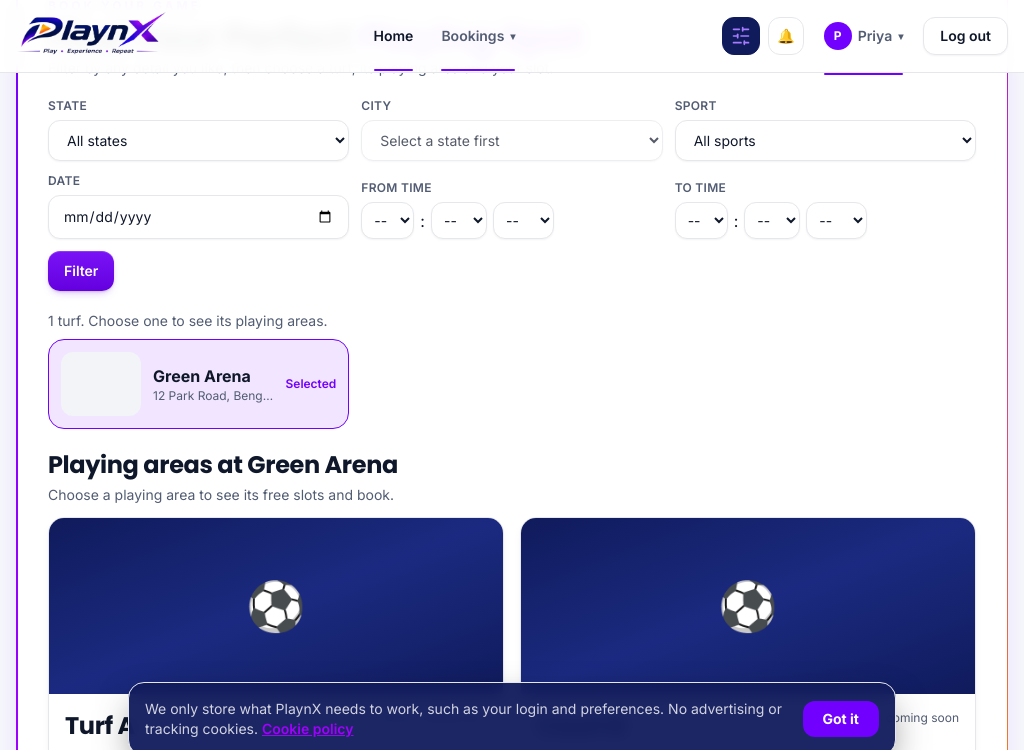
Scenario: customer home dashboard › greets the customer and books from home: venue, then its playing areas, then a slot (no Explore page)
(page scrolled)
Click the button "Green Arena 12 Park Road, Bengaluru Selected" at {"x": 199, "y": 384}, box [48, 339, 349, 429]
(page scrolled)
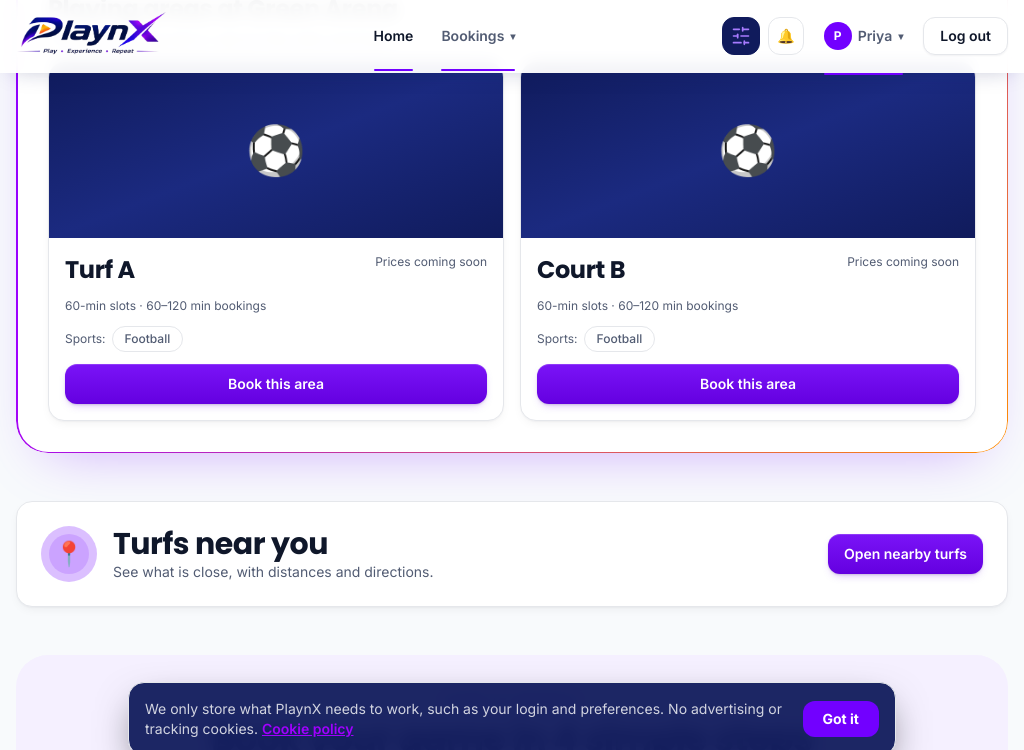
expect the heading "Turf A" is shown: met, box [65, 254, 135, 286]
expect the heading "Court B" is shown: met, box [537, 254, 625, 286]
Click the button "Book this area" below "Court B" at {"x": 748, "y": 384}, box [537, 364, 959, 404]
(page scrolled)
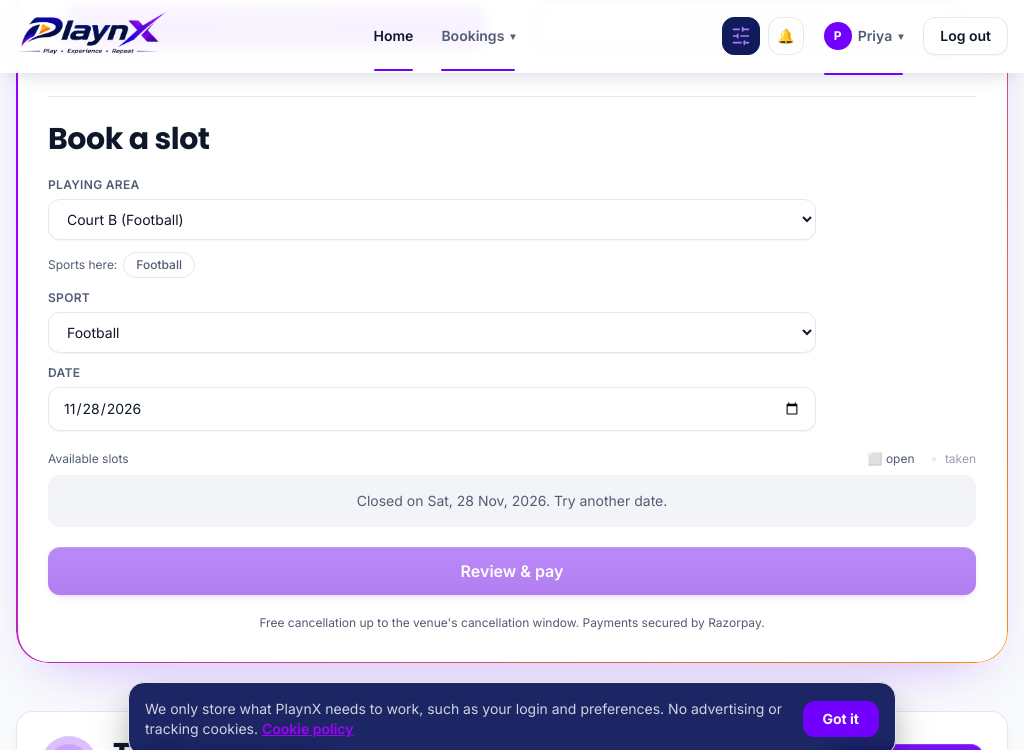
expect the heading "Book a slot" is shown: met, box [48, 118, 210, 160]
expect the dropdown labelled "Playing area" shows "Court B (Football)": met, box [48, 199, 816, 240]
